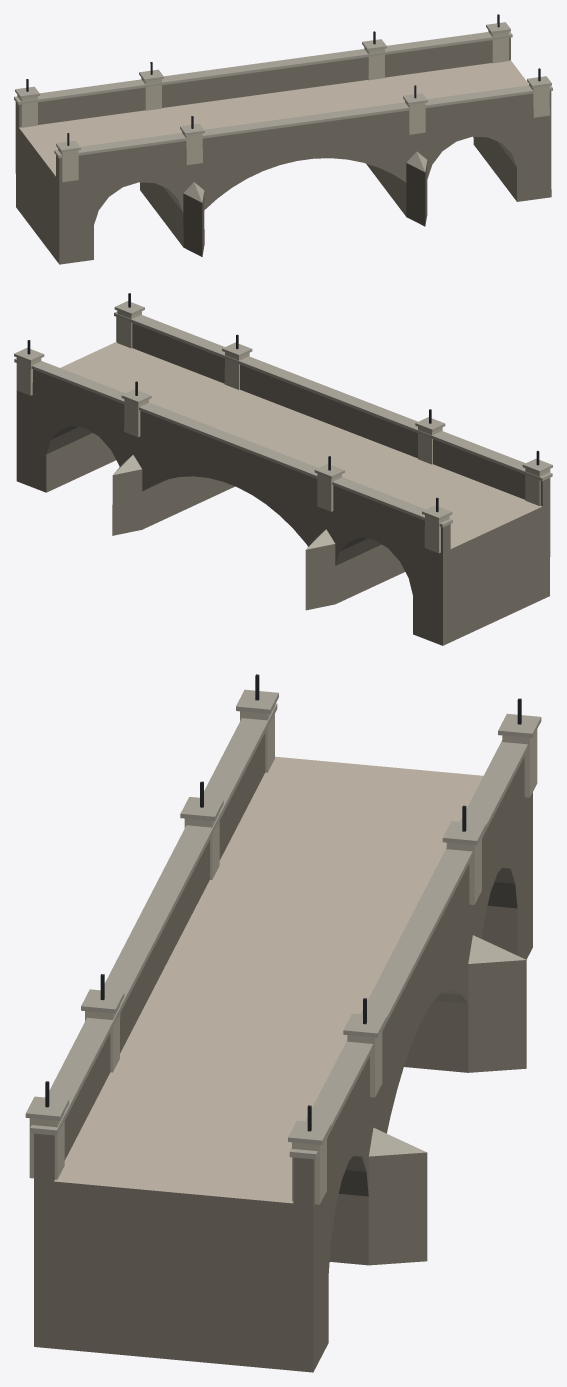
File: SM_Bridge_ToAbandoned.fbx
The picture shows the model from 3 angles, top to bottom: view 1: azimuth 30°, elevation 25°; view 2: azimuth 150°, elevation 25°; view 3: azimuth 270°, elevation 25°; orthographic projection. The views are drawn at different scales.
Visible parts, largest first — view 1: SM_Bridge_ToAbandoned; view 2: SM_Bridge_ToAbandoned; view 3: SM_Bridge_ToAbandoned.
Boxes of the visible parts, x1,y1,x2,y2 form: SM_Bridge_ToAbandoned: [14, 14, 552, 264]; SM_Bridge_ToAbandoned: [14, 293, 552, 645]; SM_Bridge_ToAbandoned: [25, 674, 541, 1372].
Bounding box in the file's own units: 21.98 × 5.81 × 10.53.
